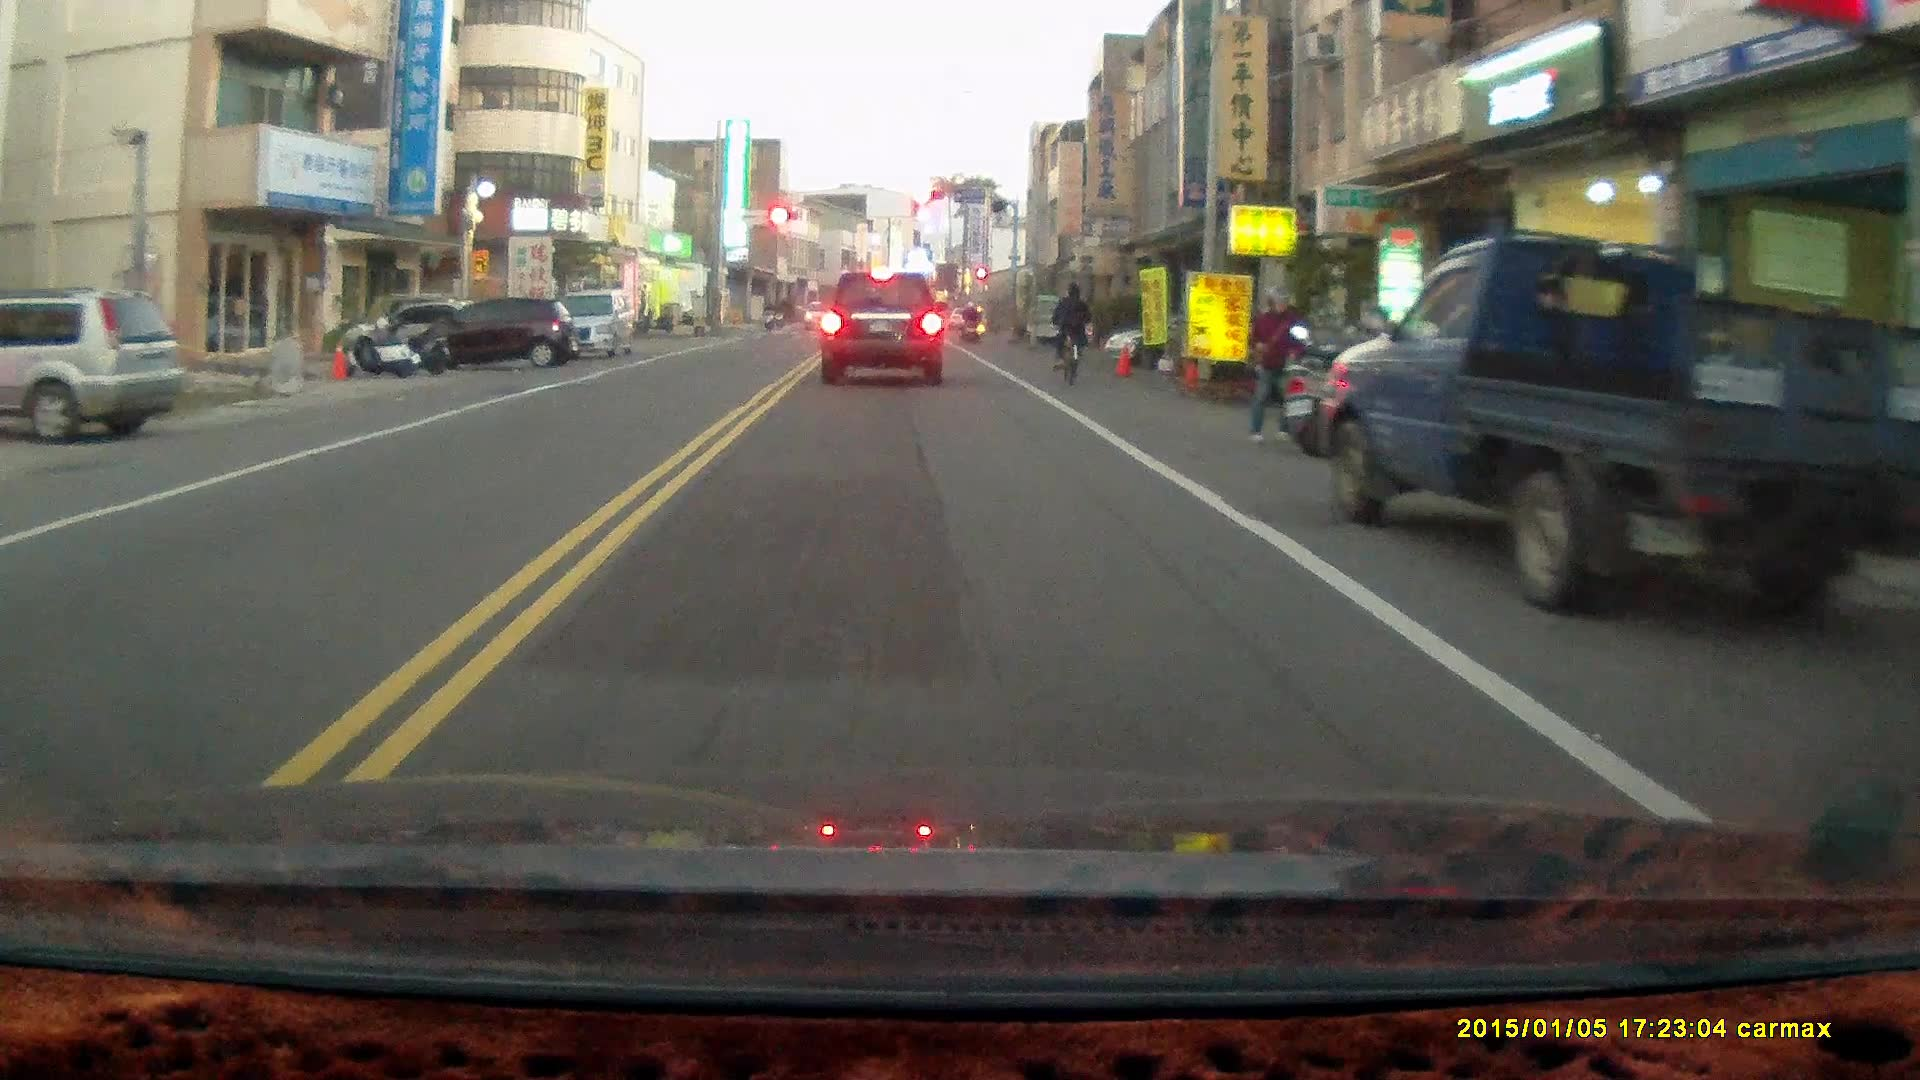pedestrian: (1244, 281, 1299, 445)
rider: (1050, 277, 1090, 387)
vehicle: (1310, 220, 1920, 614), (1, 289, 183, 445), (818, 268, 947, 388), (421, 297, 579, 368), (523, 287, 641, 363)
